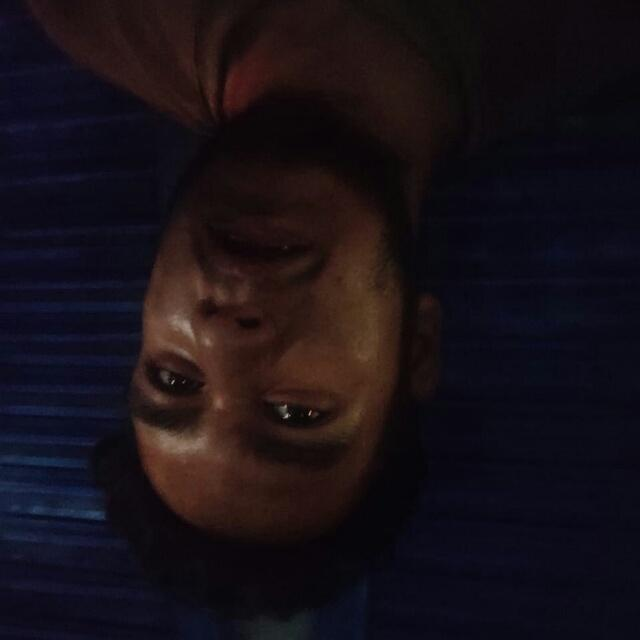Disgust: (89, 79, 465, 573)
